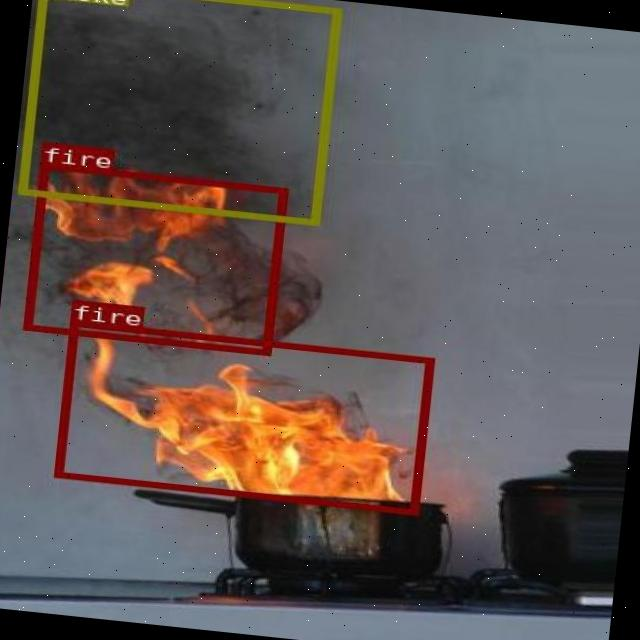fire: (52, 320, 432, 514), (22, 162, 286, 354)
smoke: (16, 0, 338, 224)
